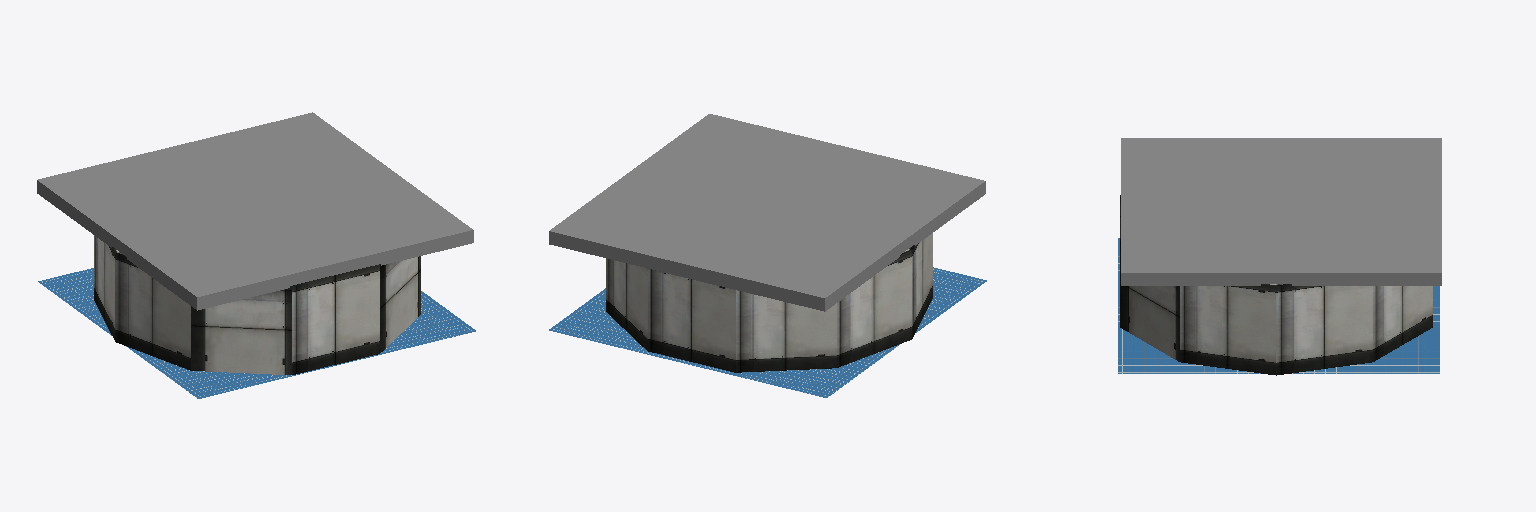
3 views of the same model, side by side, from view 1: azimuth 30°, elevation 25°; view 2: azimuth 150°, elevation 25°; view 3: azimuth 270°, elevation 25° (orthographic).
Visible parts, largest first — view 1: Box001, Cylinder001, Plane001; view 2: Box001, Cylinder001, Plane001; view 3: Box001, Cylinder001, Plane001.
Boxes of the visible parts, x1,y1,x2,y2 form: Box001: [37, 112, 473, 310]; Cylinder001: [94, 235, 420, 374]; Plane001: [38, 268, 475, 398]; Box001: [549, 114, 985, 311]; Cylinder001: [606, 233, 932, 372]; Plane001: [549, 267, 986, 397]; Box001: [1121, 138, 1441, 285]; Cylinder001: [1120, 195, 1432, 375]; Plane001: [1118, 238, 1439, 373].
Size of the model in its own units: 8.34 by 2.83 by 8.22.
4 materials, 3 textured.